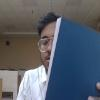notebook: (43, 16, 99, 99)
